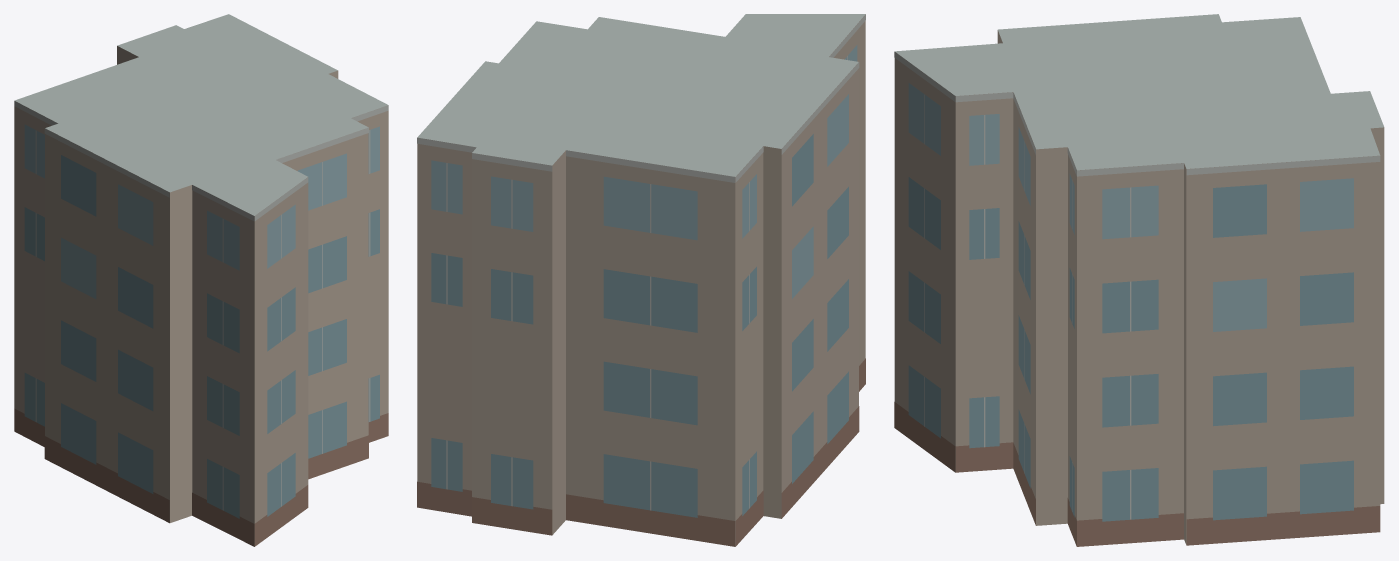
The model's file is survey-upis-32576576.glb.
The picture shows the model from 3 angles, left to right: view 1: azimuth 30°, elevation 25°; view 2: azimuth 150°, elevation 25°; view 3: azimuth 270°, elevation 25°; orthographic projection. The views are drawn at different scales.
Visible parts, largest first — view 1: survey-upis-32576576.tmp; view 2: survey-upis-32576576.tmp; view 3: survey-upis-32576576.tmp.
Part boxes in pixels (x1,y1,x2,y2): survey-upis-32576576.tmp: [14, 14, 388, 546]; survey-upis-32576576.tmp: [417, 14, 865, 546]; survey-upis-32576576.tmp: [894, 14, 1384, 546].
Size of the model in its own units: 13.08 by 14.68 by 17.32.
